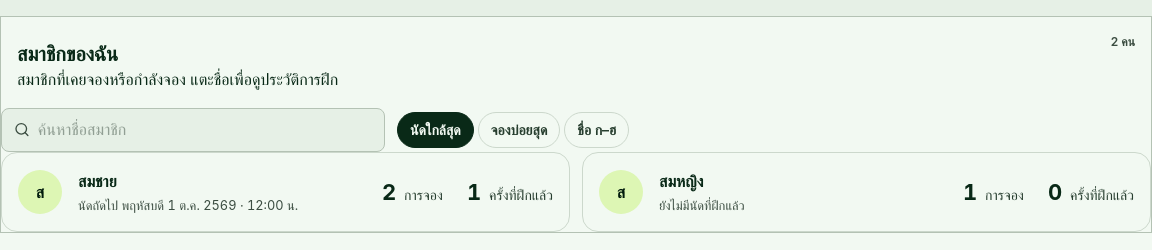
Test: Trainer members and reviews › lists members with their training history and searches by name
Expected: the number of list items is 2, [1,152,570,232]; [582,152,1151,232]
Expected: the text "นัดถัดไป พฤหัสบดี 1 ต.ค. 2569 · 12:00 น." is shown, [78,198,298,213]
Type "หญิง" into the search field named "ค้นหาสมาชิก" at (205, 130), box [38,109,372,151]
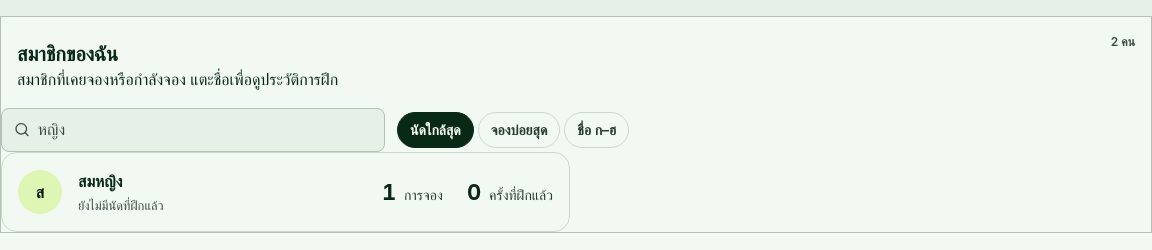
Expected: the number of list items is 1, [1,152,570,232]
